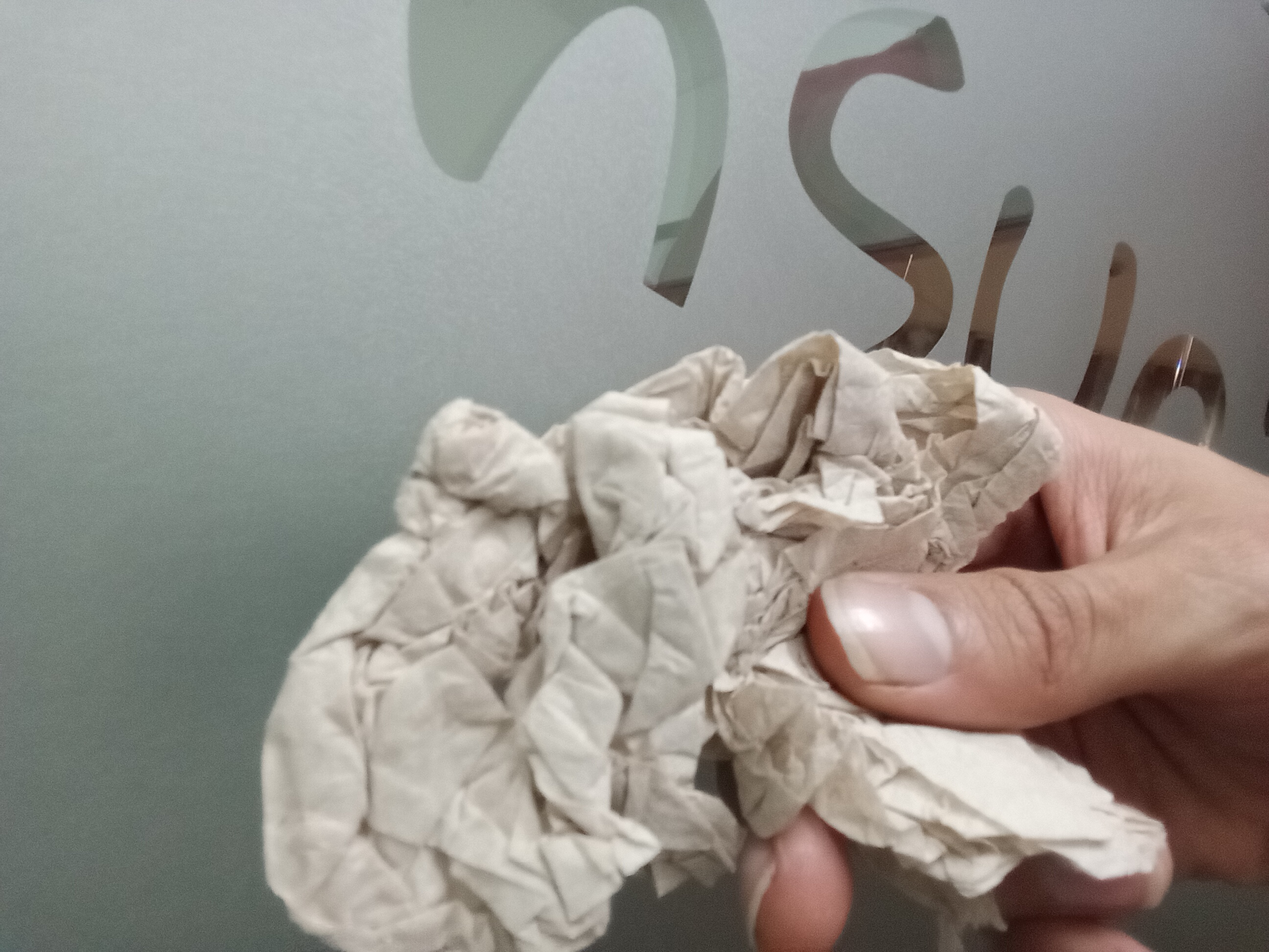Ordinario: (261, 325, 1167, 952)
